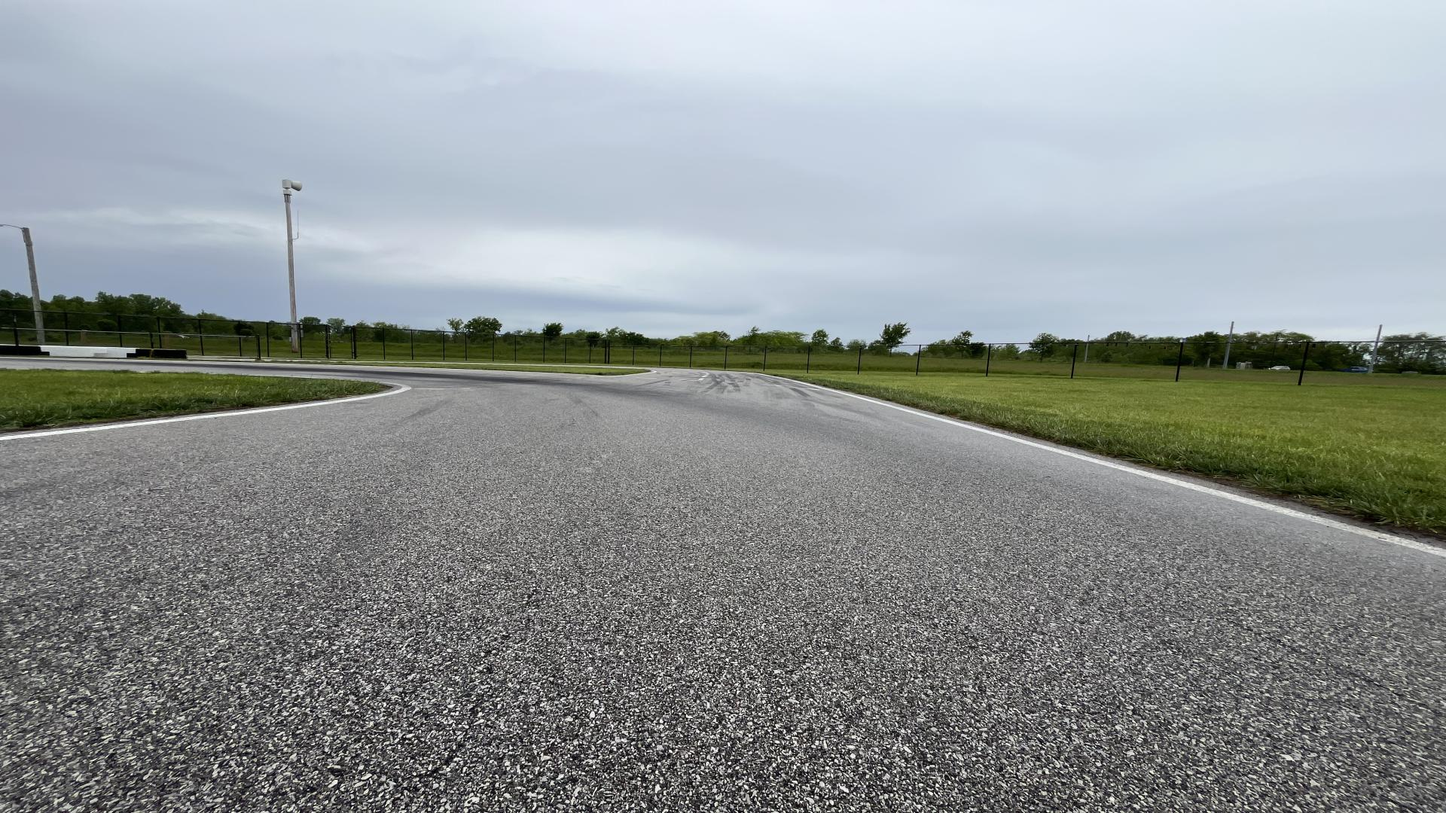white-line: (726, 371, 1445, 559), (0, 380, 411, 442), (297, 364, 657, 376), (688, 378, 704, 381), (800, 388, 820, 390), (764, 385, 784, 387), (702, 372, 709, 377)
